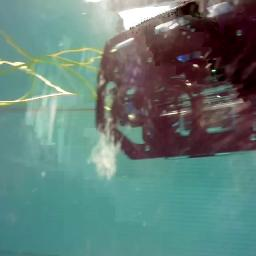Side: (94, 0, 256, 161)
